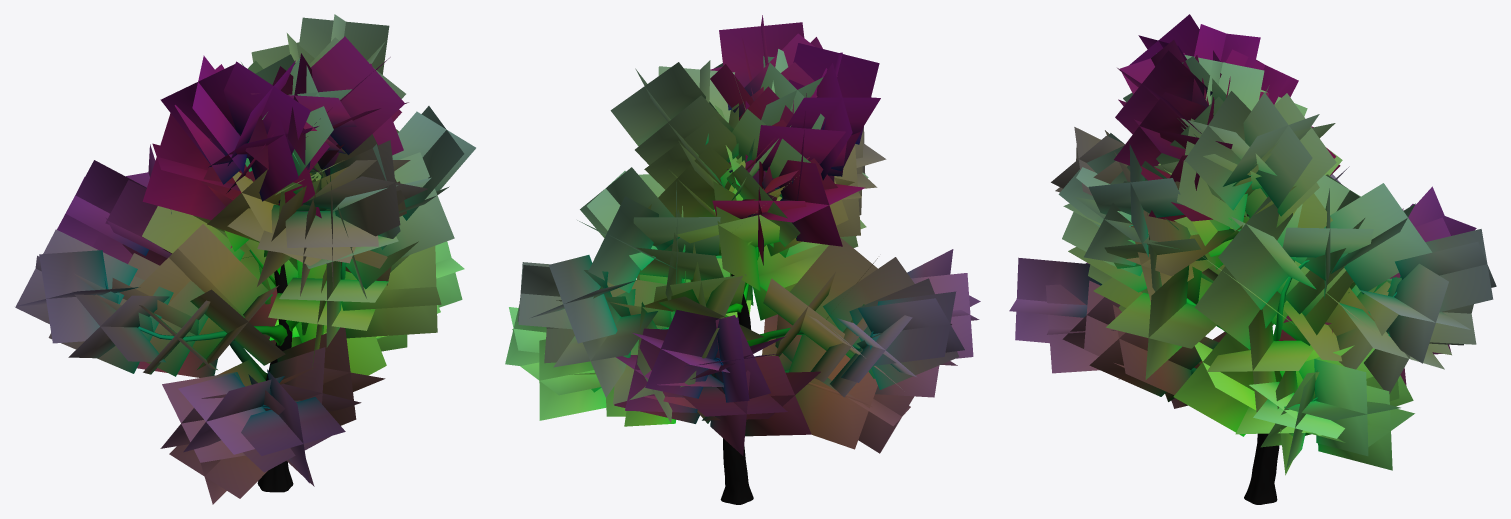
Rendered from URP_P11_Tree_3_LOD_0.fbx.
3 views of the same model, side by side, from view 1: azimuth 30°, elevation 25°; view 2: azimuth 150°, elevation 25°; view 3: azimuth 270°, elevation 25° (orthographic). The views are drawn at different scales.
Visible parts, largest first — view 1: Tree_3_LOD_0; view 2: Tree_3_LOD_0; view 3: Tree_3_LOD_0.
Boxes of the visible parts, x1=… form: Tree_3_LOD_0: x1=15, y1=14, x2=475, y2=504; Tree_3_LOD_0: x1=505, y1=15, x2=980, y2=504; Tree_3_LOD_0: x1=1009, y1=14, x2=1496, y2=504.
Bounding box in the file's own units: 585 × 596 × 576.
